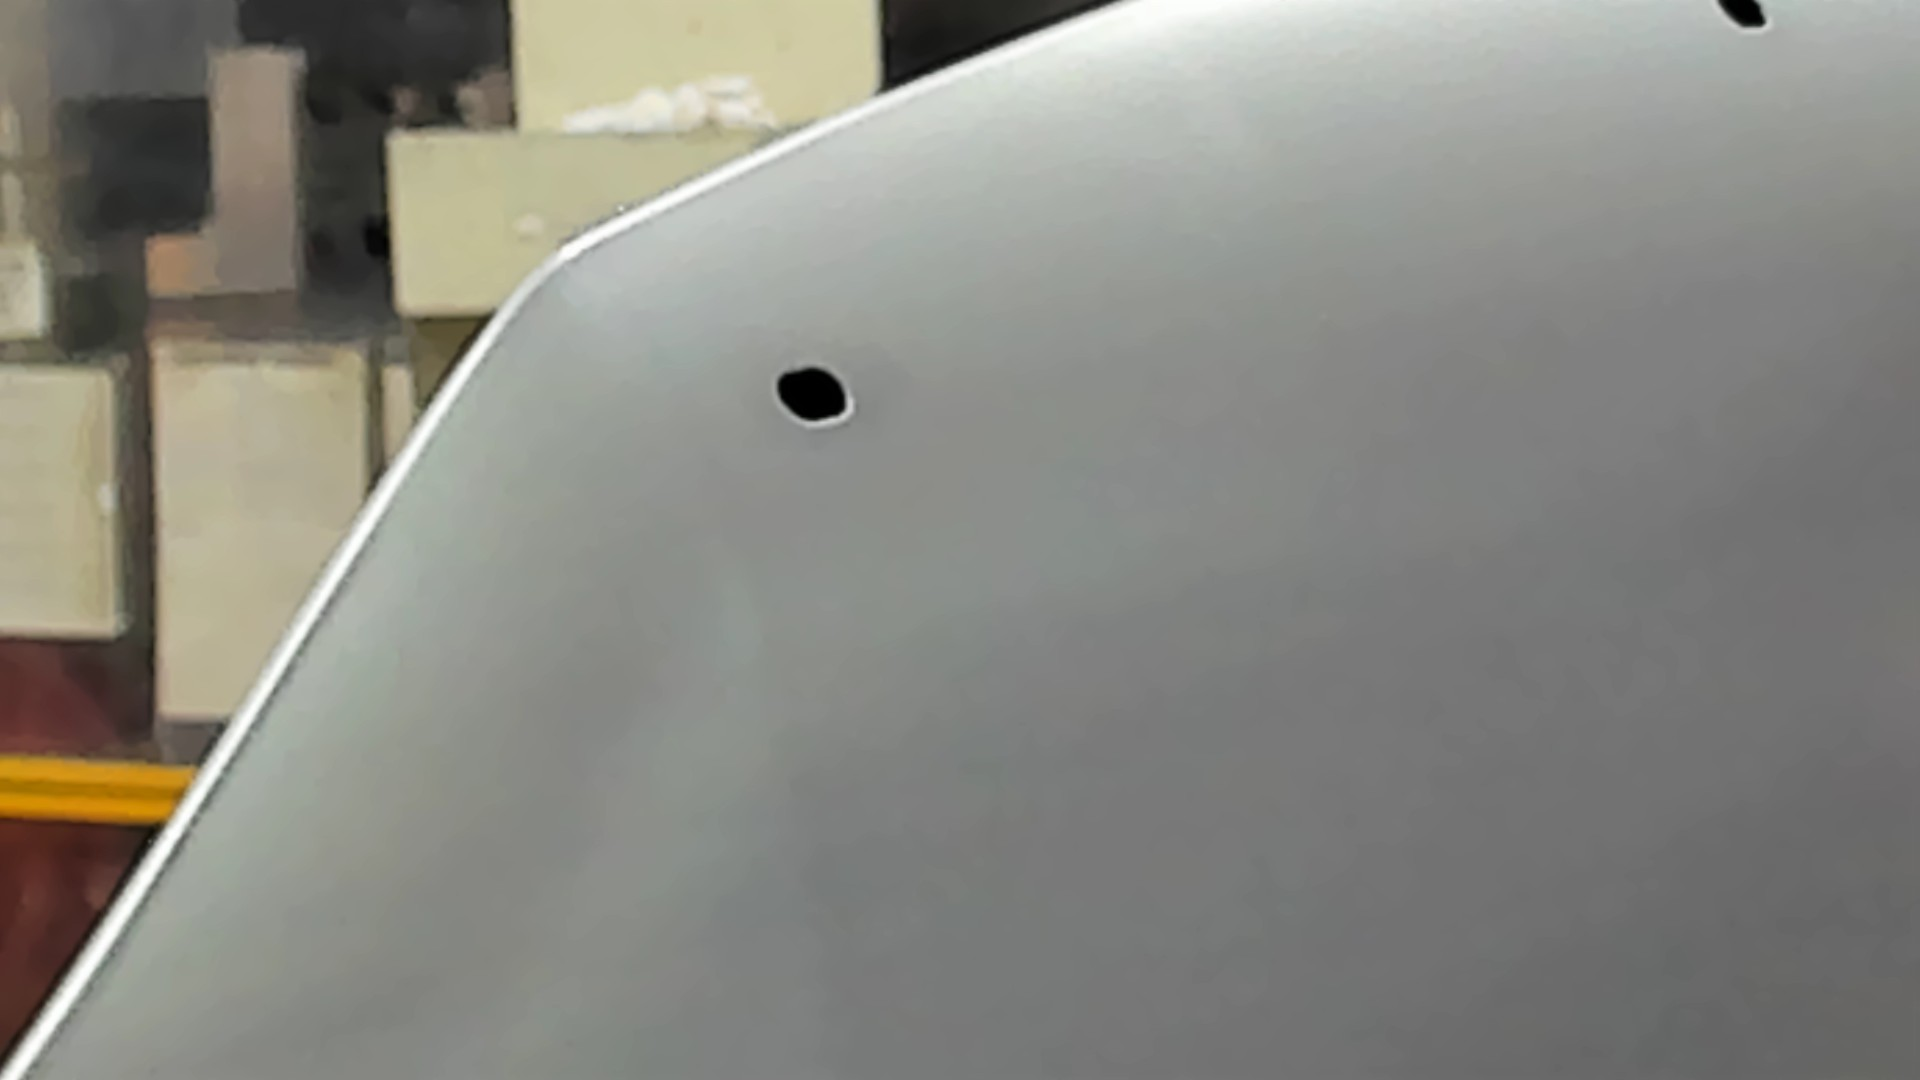amorfo: (771, 357, 862, 433), (1706, 1, 1779, 41)
